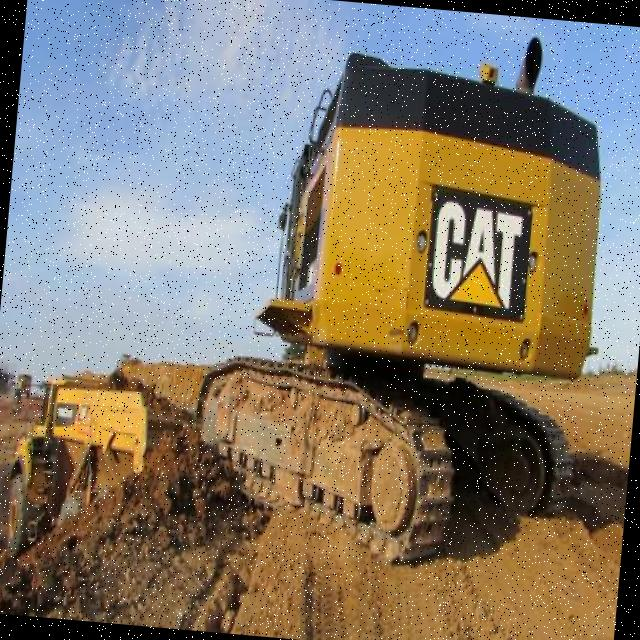Dump Truck: (0, 367, 192, 567)
Excavator: (180, 2, 628, 584)
